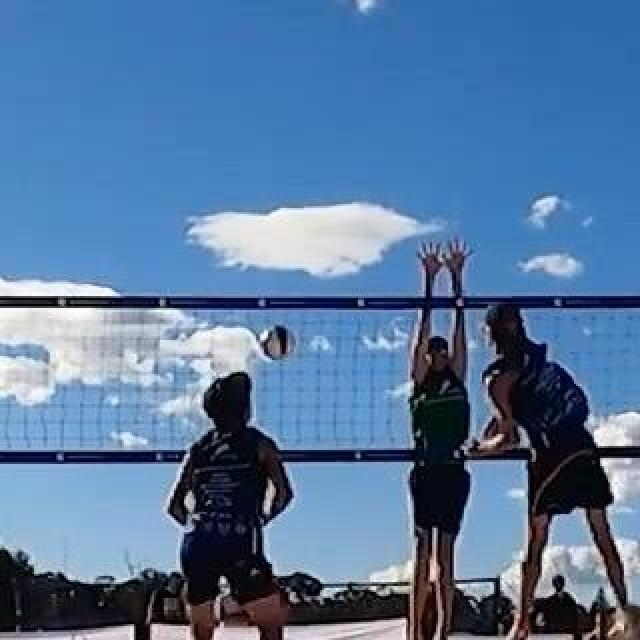volleyball: (260, 324, 296, 360)
